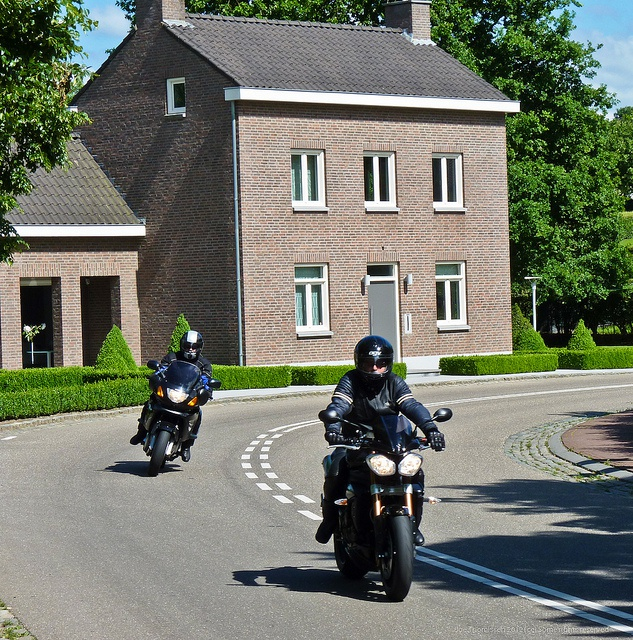non-vehicle: (323, 408, 451, 601), (142, 357, 221, 476)
